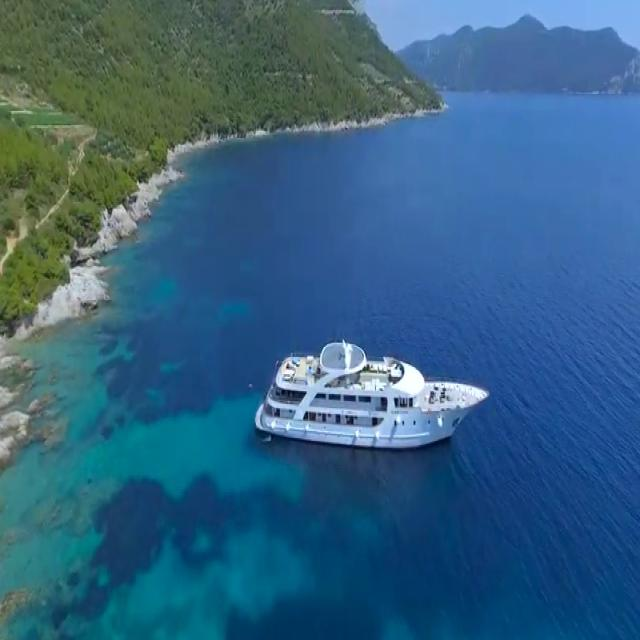passenger ship: (249, 333, 489, 454)
